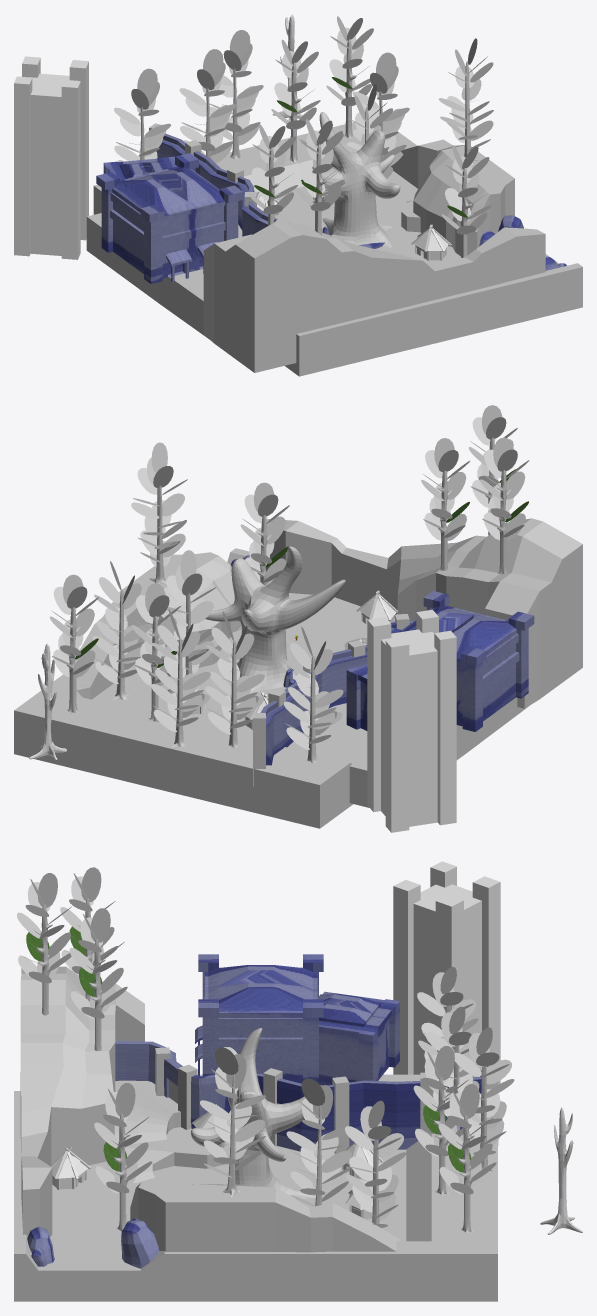
Rendered from School_Environment.fbx.
The picture shows the model from 3 angles, top to bottom: view 1: azimuth 30°, elevation 25°; view 2: azimuth 150°, elevation 25°; view 3: azimuth 270°, elevation 25°; orthographic projection. The views are drawn at different scales.
Visible parts, largest first — view 1: South Cliff, Cube.027, Cube.001, BigHouse, East Cliff, Tree, Castle Elevation, Oak Tree.001, Oak Tree.002, Oak Tree.004, Oak Tree.005, Ash.003 (+10 smaller); view 2: Cube.027, South Cliff, Cube.001, BigHouse, Tree, East Cliff, Castle Elevation, Oak Tree.004, Oak Tree.002, Oak Tree.001, Oak Tree.005, Oak Tree.003 (+12 smaller); view 3: Cube.027, South Cliff, Cube.001, East Cliff, BigHouse, Cube.032, SmallHouse, Tree, Oak Tree.004, Oak Tree.003, Oak Tree, Oak Tree.002 (+16 smaller).
Part boxes in pixels (x1=…): South Cliff: x1=203, y1=221, x2=545, y2=372; Cube.027: x1=93, y1=120, x2=582, y2=376; Cube.001: x1=14, y1=56, x2=88, y2=259; BigHouse: x1=96, y1=153, x2=243, y2=283; East Cliff: x1=390, y1=139, x2=514, y2=256; Tree: x1=300, y1=112, x2=400, y2=247; Castle Elevation: x1=86, y1=213, x2=242, y2=339; Oak Tree.001: x1=179, y1=49, x2=236, y2=163; Oak Tree.002: x1=209, y1=30, x2=263, y2=159; Oak Tree.004: x1=438, y1=38, x2=493, y2=165; Oak Tree.005: x1=114, y1=68, x2=170, y2=161; Ash.003: x1=271, y1=39, x2=320, y2=162; Cube.027: x1=14, y1=548, x2=394, y2=828; South Cliff: x1=265, y1=518, x2=582, y2=708; Cube.001: x1=367, y1=609, x2=456, y2=832; BigHouse: x1=391, y1=591, x2=534, y2=731; Tree: x1=205, y1=546, x2=345, y2=693; East Cliff: x1=65, y1=552, x2=240, y2=699; Castle Elevation: x1=287, y1=637, x2=528, y2=807; Oak Tree.004: x1=131, y1=442, x2=187, y2=584; Oak Tree.002: x1=151, y1=609, x2=210, y2=746; Oak Tree.001: x1=205, y1=611, x2=264, y2=747; Oak Tree.005: x1=284, y1=626, x2=343, y2=762; Oak Tree.003: x1=92, y1=561, x2=152, y2=700; Cube.027: x1=14, y1=1091, x2=497, y2=1301; South Cliff: x1=20, y1=966, x2=180, y2=1236; Cube.001: x1=393, y1=861, x2=500, y2=1084; East Cliff: x1=130, y1=1182, x2=406, y2=1252; BigHouse: x1=195, y1=954, x2=323, y2=1083; Cube.032: x1=115, y1=1041, x2=481, y2=1151; SmallHouse: x1=317, y1=991, x2=399, y2=1085; Tree: x1=191, y1=1028, x2=315, y2=1199; Oak Tree.004: x1=200, y1=1047, x2=265, y2=1197; Oak Tree.003: x1=345, y1=1100, x2=406, y2=1227; Oak Tree: x1=286, y1=1078, x2=351, y2=1206; Oak Tree.002: x1=454, y1=1027, x2=514, y2=1171.
Size of the model in its own units: 16168 by 9528 by 17493.
